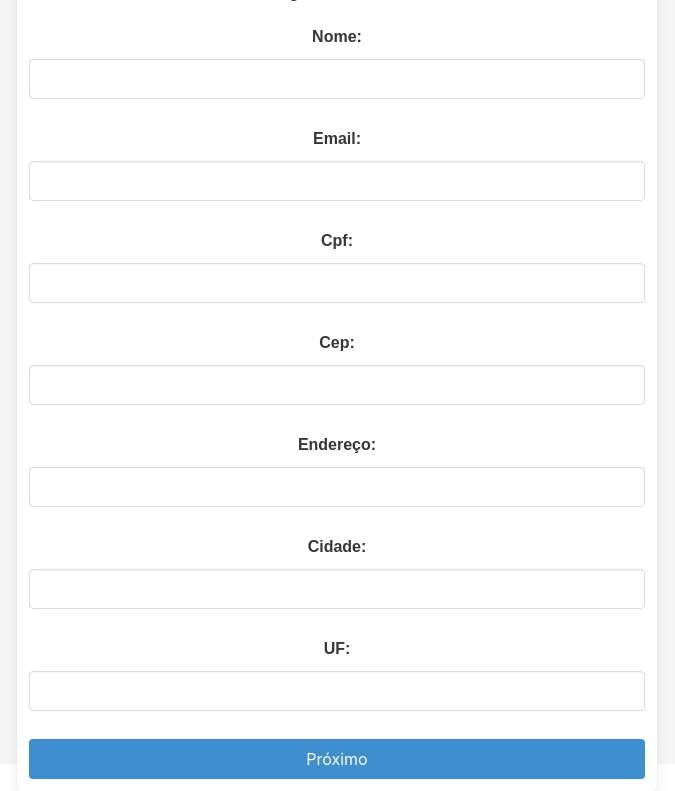
01 - Implementando as rotas e estrutura das páginas › Botão redireciona corretamente para o segundo formulário
(page scrolled)
Click the button "Próximo".
click(337, 758)  # box [29,738,645,778]
(page scrolled)
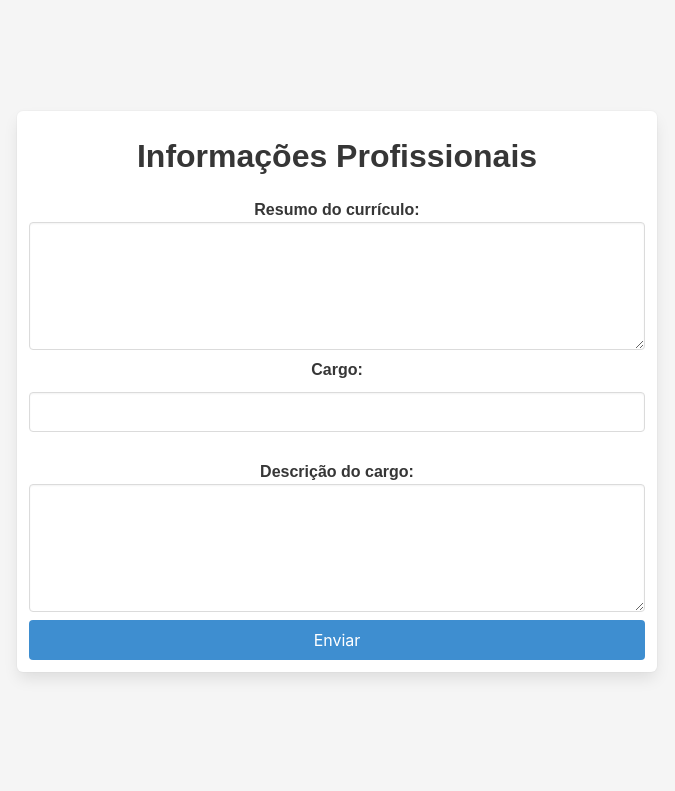
Now the heading "Informações Profissionais" is shown, box [137,138,537,174]
